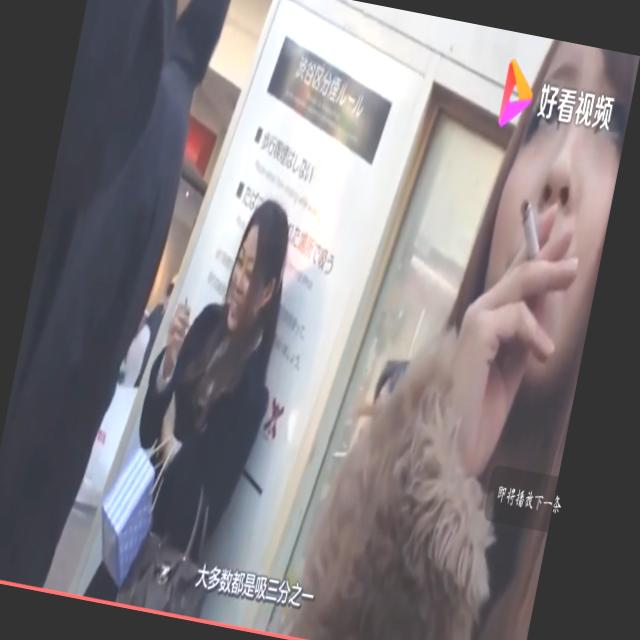smoke: (508, 195, 553, 276), (180, 294, 194, 320)
